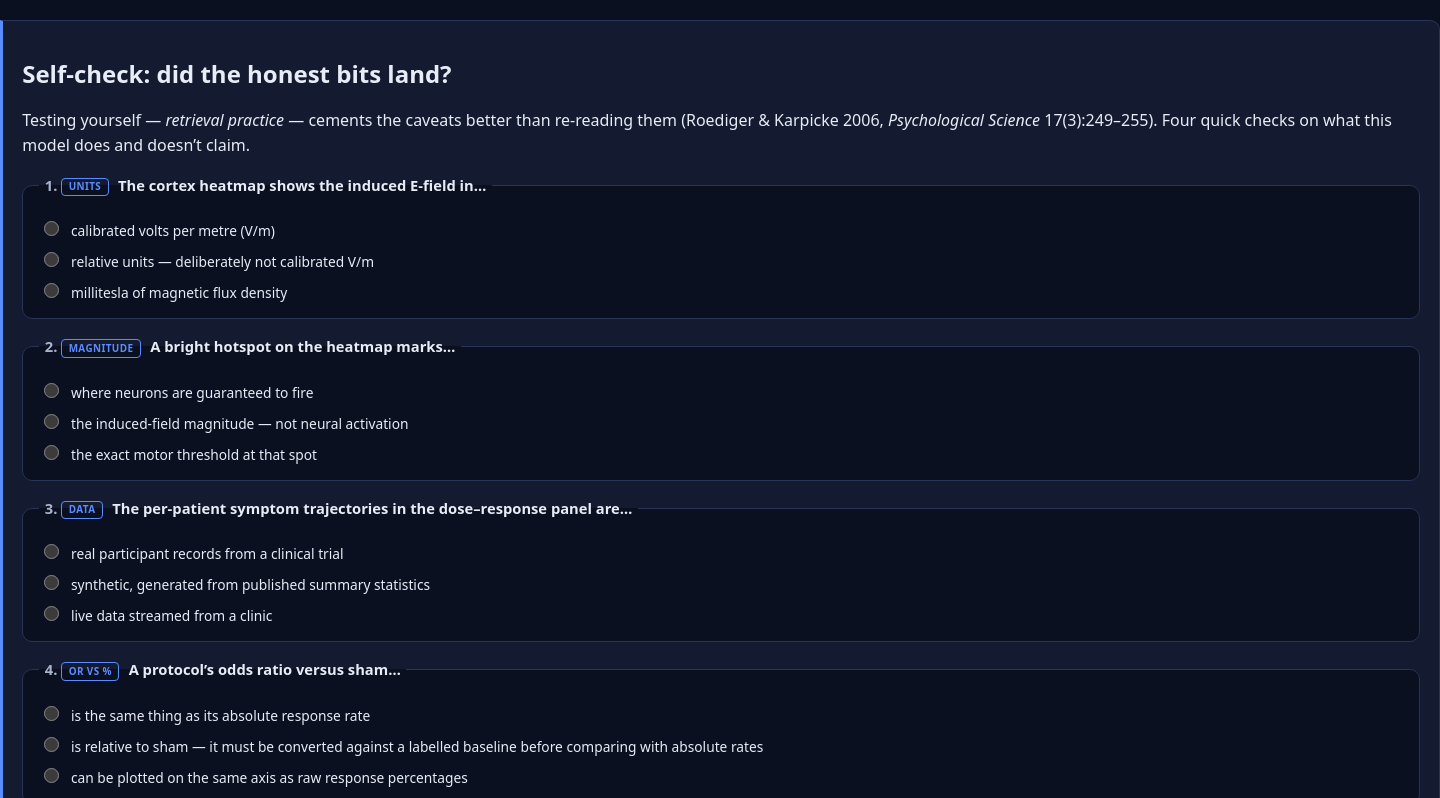
Test case: SelfCheckQuiz (#21 — retrieval practice on the honesty gates) › grades a wrong answer down and shows the ✗ verdict + cited explanation
Click the radio button labelled "calibrated volts per metre (V/m)" at point(52, 229), box [44, 221, 59, 236]
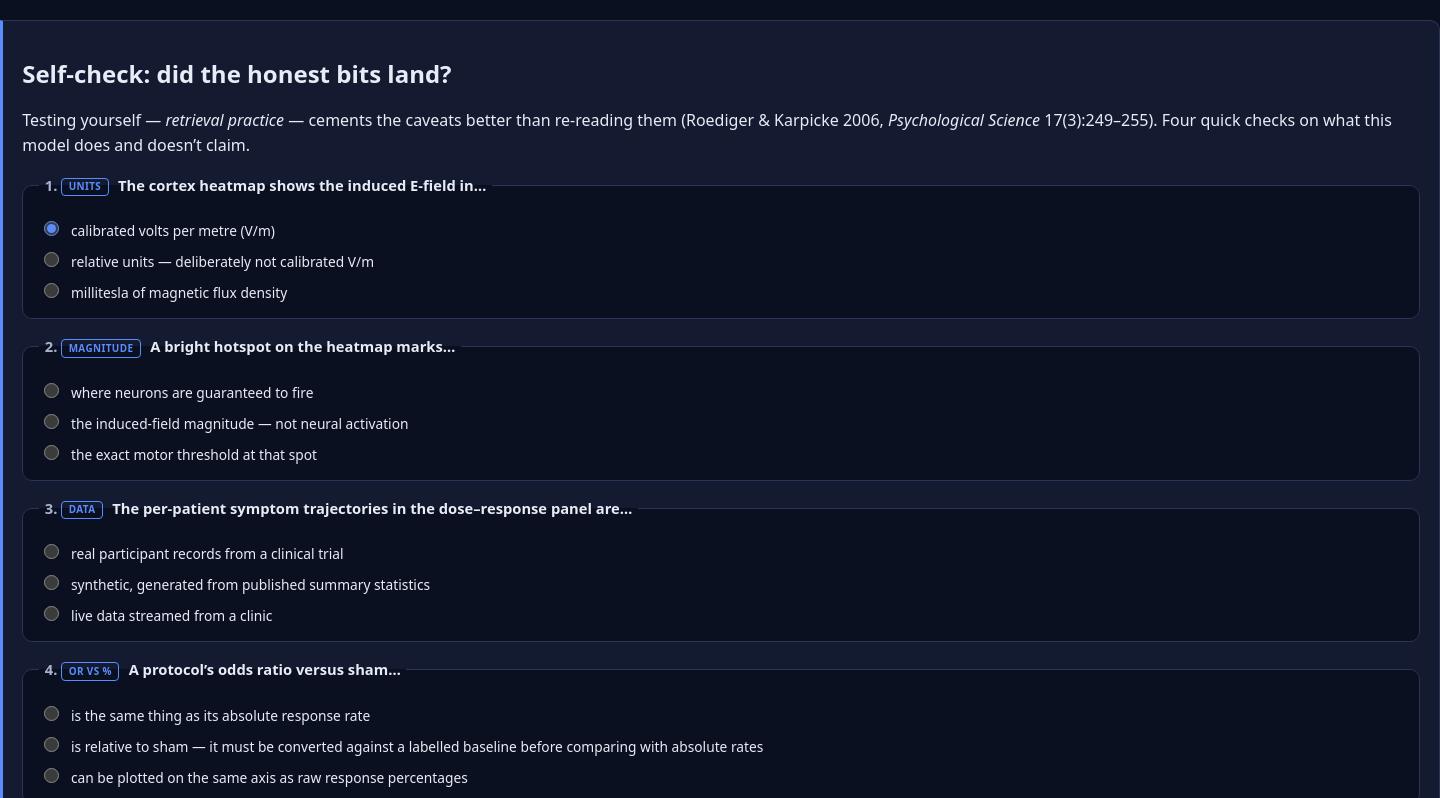
Click the radio button labelled "the induced-field magnitude — not neural activation" at point(52, 421), box [44, 414, 59, 429]
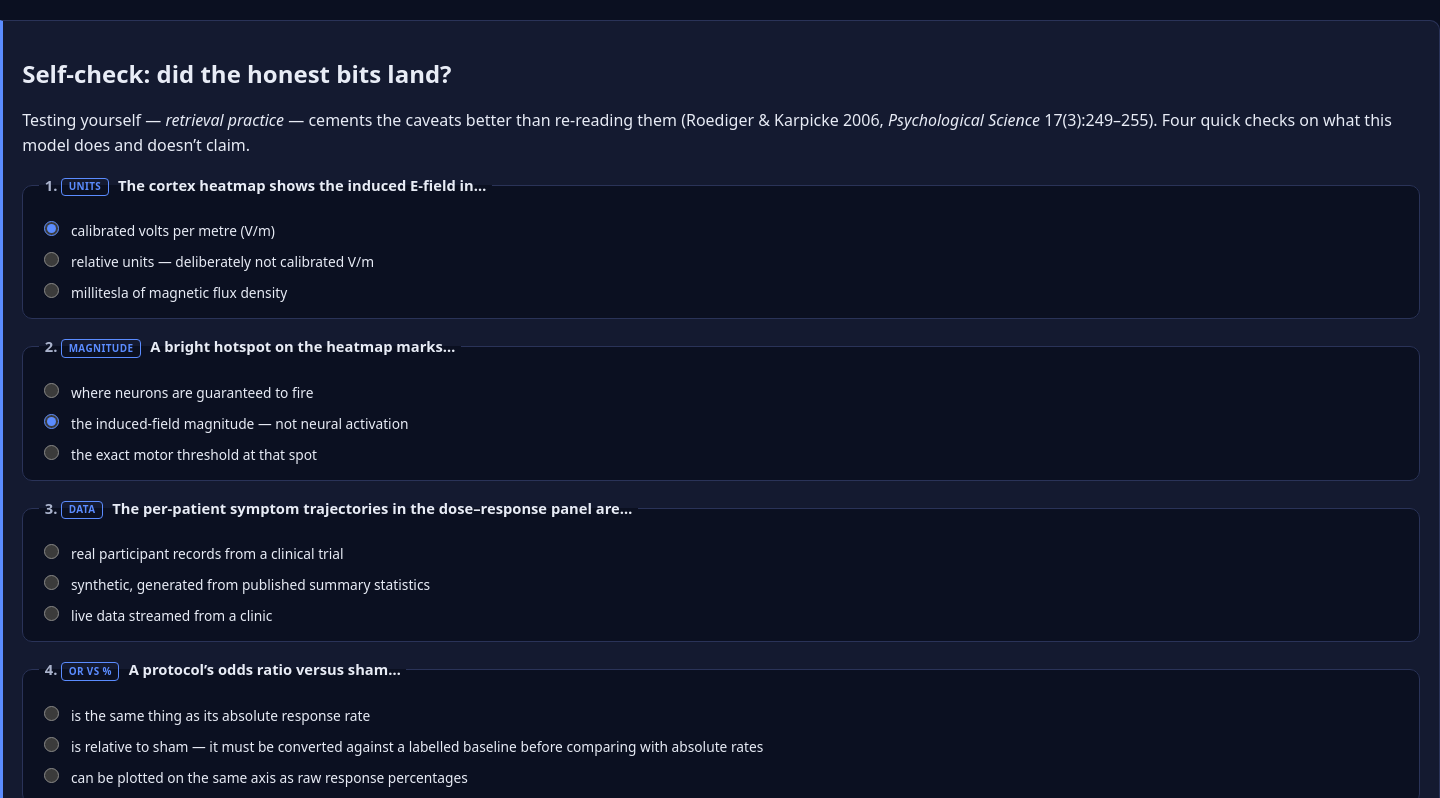
Click the radio button labelled "synthetic, generated from published summary statistics" at point(52, 583), box [44, 575, 59, 590]
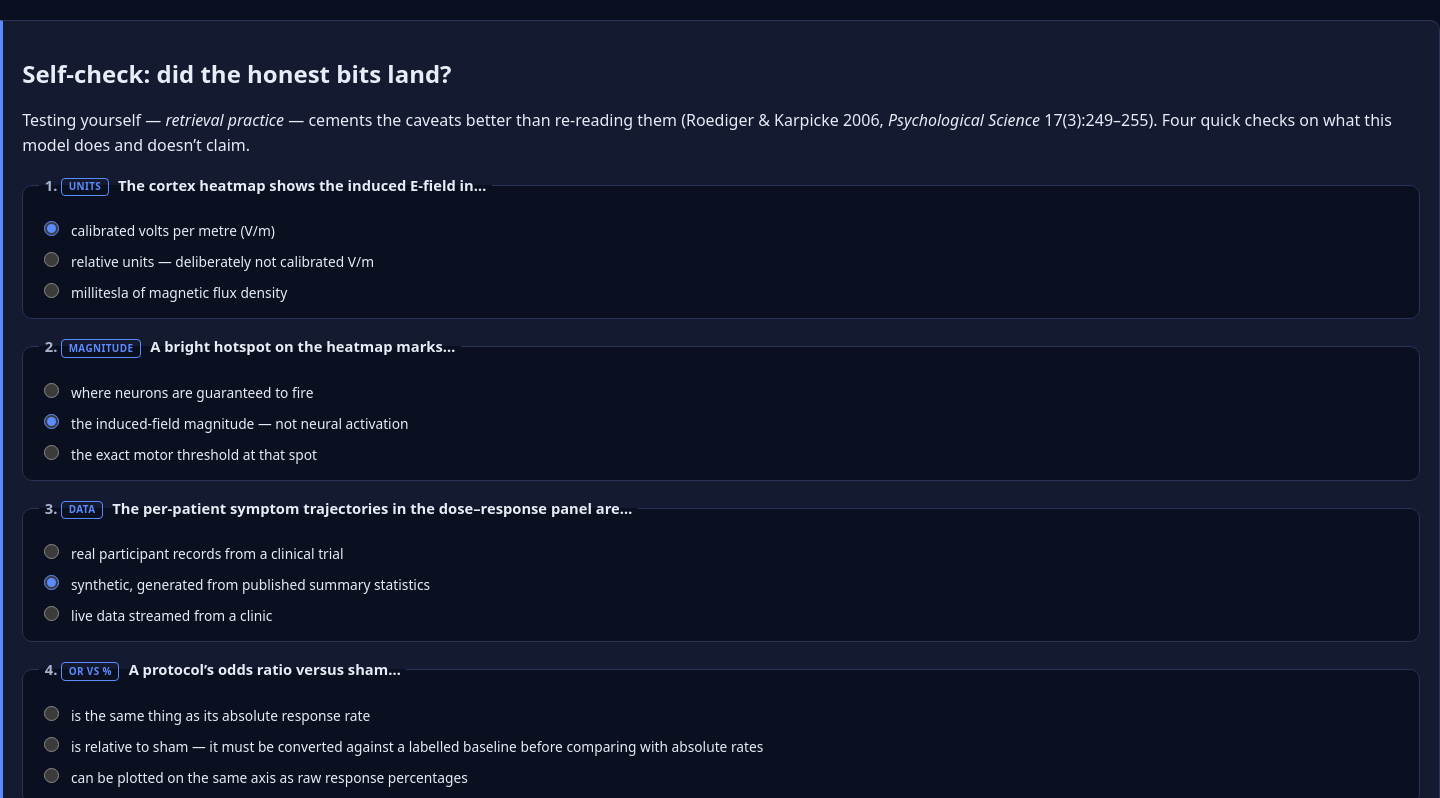
Click the radio button labelled "relative to sham" at point(52, 744), box [44, 737, 59, 752]
(page scrolled)
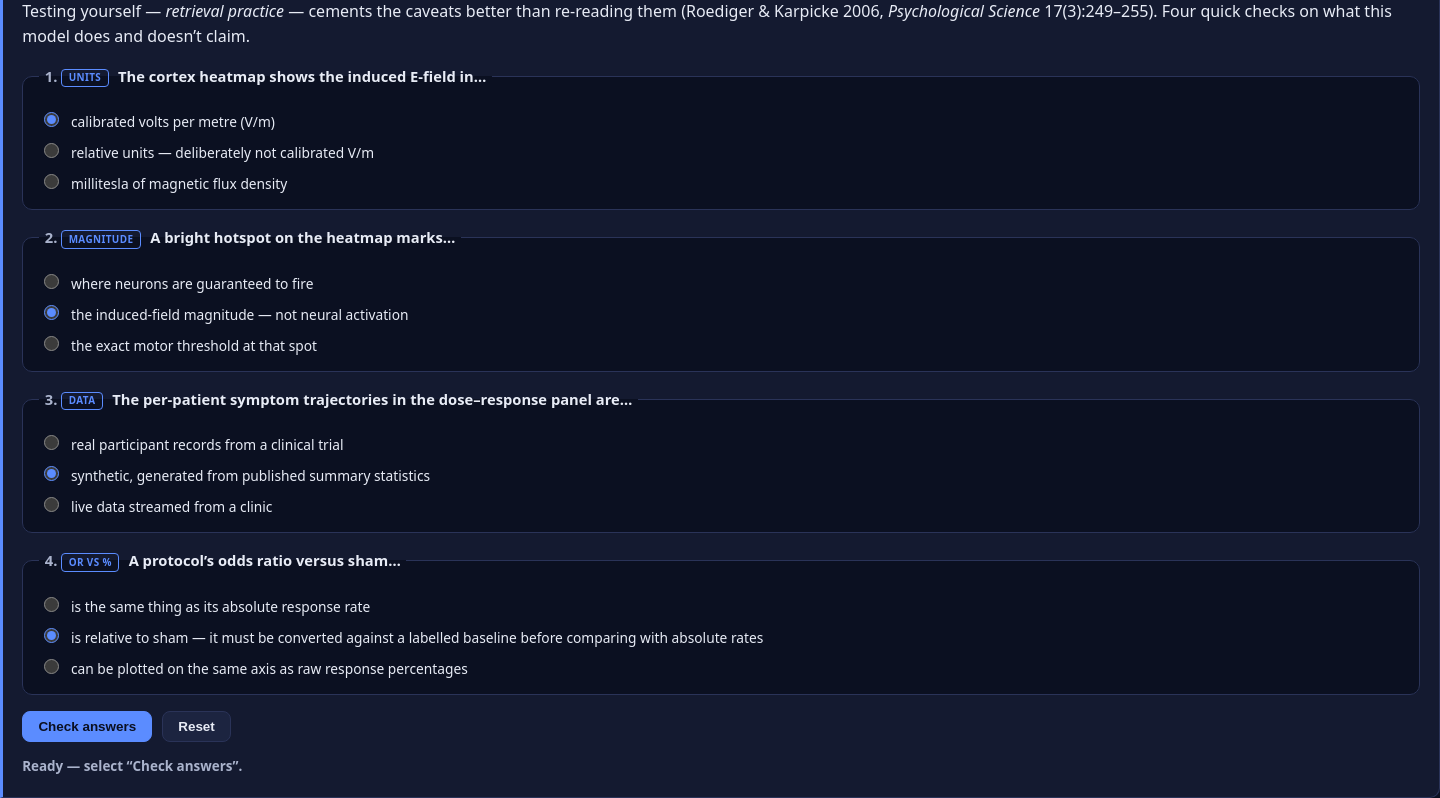
Click the button "Check answers" at point(87, 726), box [22, 711, 152, 742]
(page scrolled)
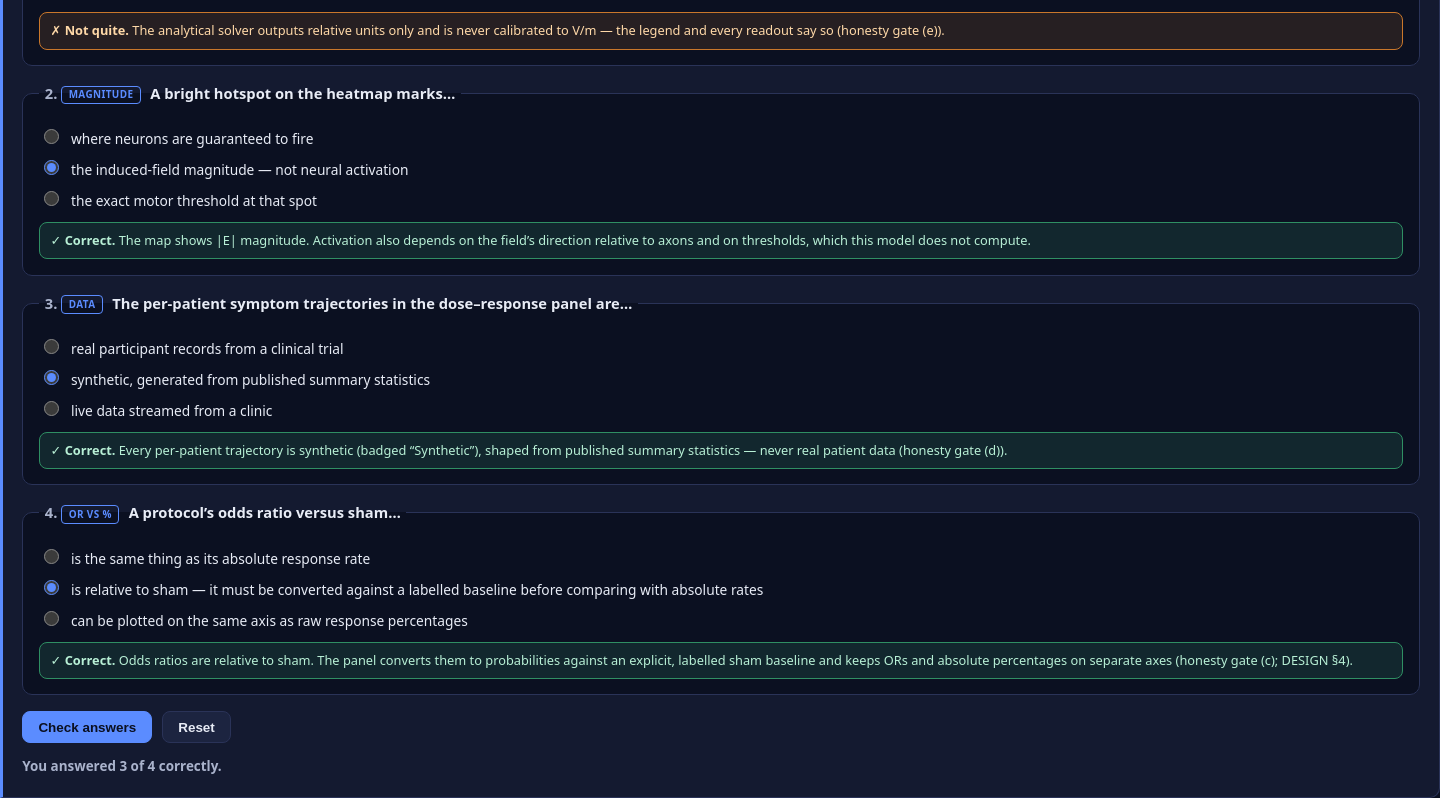
Result: the message shows "3 of 4 correctly" at [22, 757, 222, 775]
Result: the text "✗ Not quite." is shown at [51, 22, 129, 40]
Result: the text "never calibrated to V/m" is shown at [132, 22, 945, 40]
